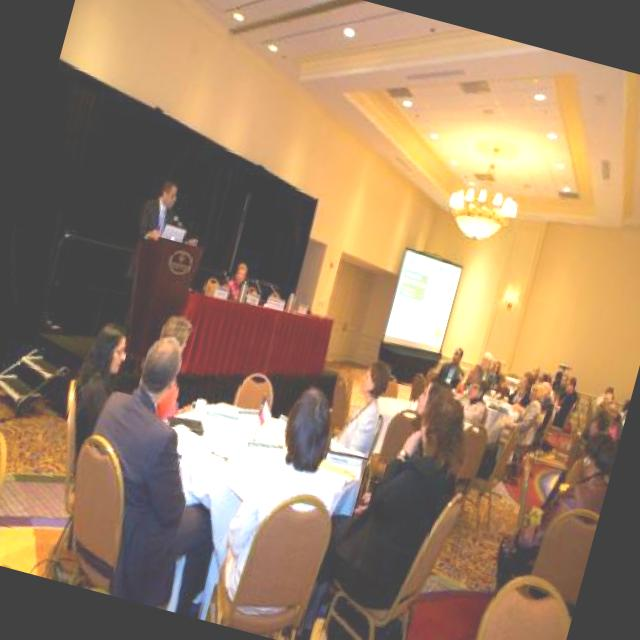Person: (52, 323, 268, 618), (293, 368, 478, 640), (209, 374, 362, 626), (56, 318, 136, 461), (138, 312, 204, 426), (326, 356, 394, 463), (136, 174, 212, 252), (400, 378, 454, 468), (502, 376, 548, 444), (584, 397, 628, 456), (493, 366, 538, 414), (524, 378, 560, 437), (548, 372, 585, 428), (454, 380, 491, 430), (434, 344, 468, 390), (221, 259, 251, 306), (458, 358, 488, 398), (468, 346, 496, 384), (590, 386, 618, 424), (593, 382, 617, 413), (543, 373, 564, 403), (554, 374, 574, 401), (524, 364, 544, 389), (488, 356, 502, 386)
